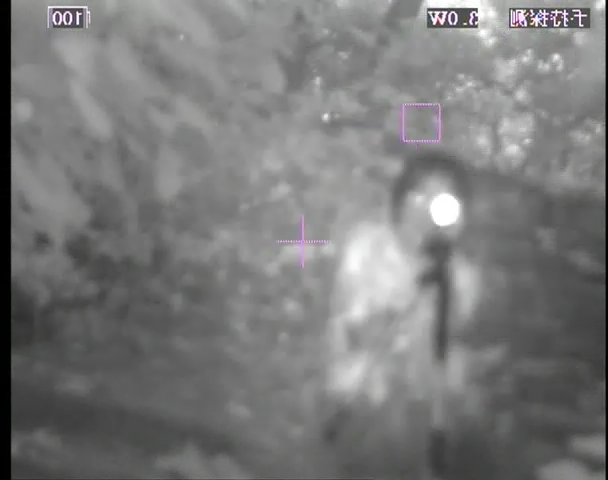my: (429, 192, 462, 226)
